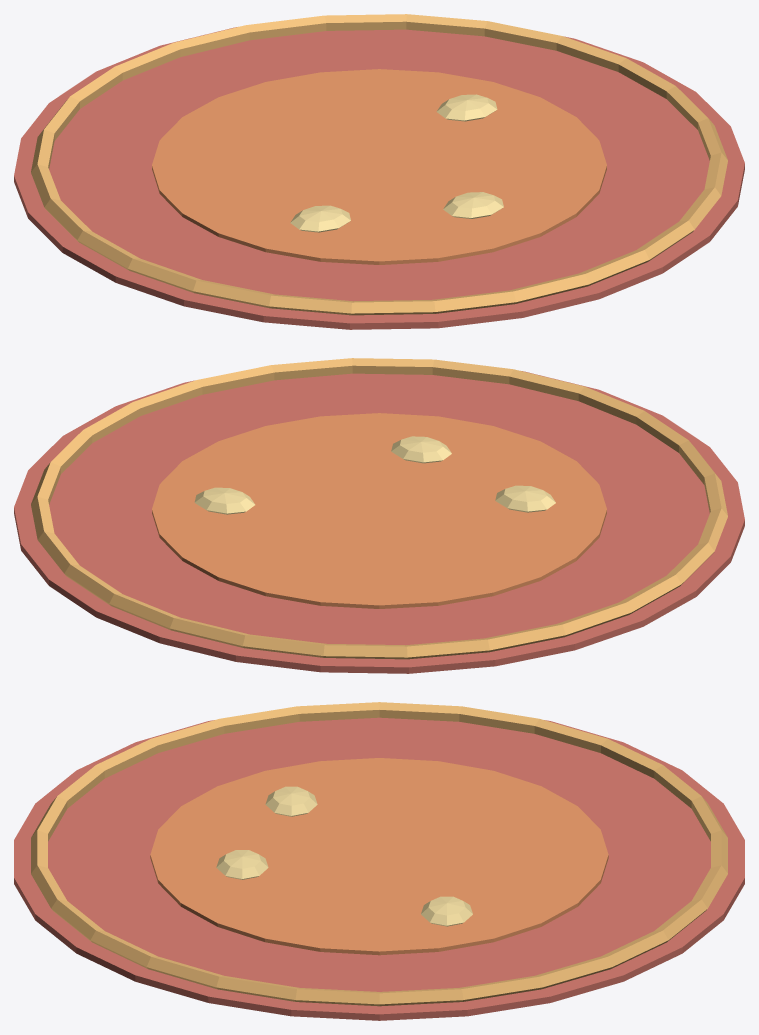
The model's file is charco_lava.glb.
The picture shows the model from 3 angles, top to bottom: view 1: azimuth 30°, elevation 25°; view 2: azimuth 150°, elevation 25°; view 3: azimuth 270°, elevation 25°; orthographic projection.
Parts seen in each view (by area): view 1: charco_lava; view 2: charco_lava; view 3: charco_lava.
Boxes of the visible parts, x1,y1,x2,y2 form: charco_lava: (14,14,744,329); charco_lava: (14,358,744,673); charco_lava: (14,702,744,1020).
Bounding box in the file's own units: 3.6 × 0.117 × 3.57.
